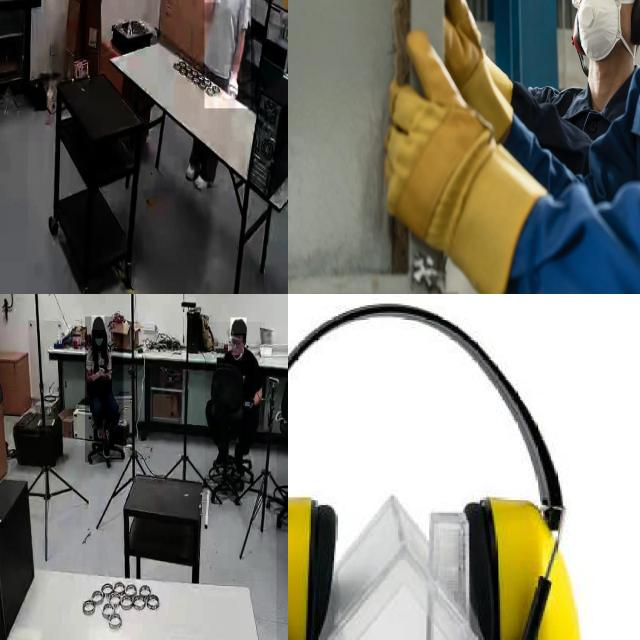Ear-protection: (288, 294, 598, 640)
face_mask: (91, 332, 107, 356)
face_nomask: (230, 335, 244, 356)
hand_glove: (379, 54, 533, 283), (425, 0, 519, 130), (225, 65, 242, 99)
hand_noglove: (242, 395, 256, 411)
head_nohelmet: (231, 318, 247, 334), (91, 316, 105, 330)
person: (205, 322, 265, 496), (85, 317, 124, 463), (204, 0, 251, 109)
